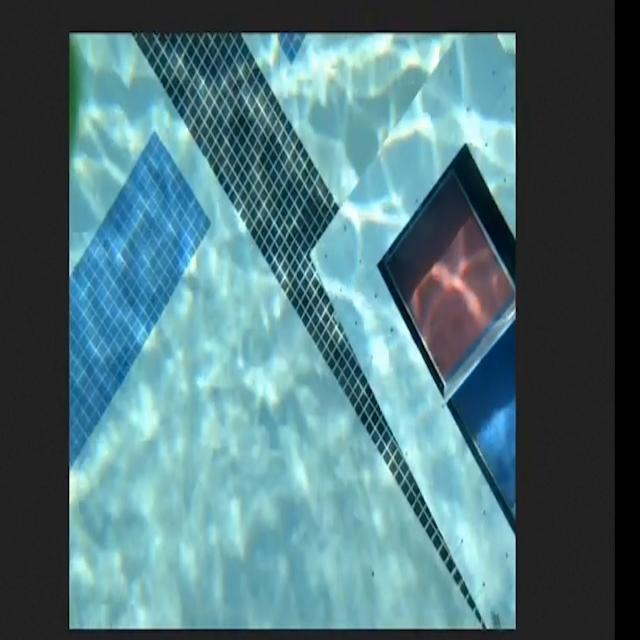Bin: (304, 32, 516, 635)
